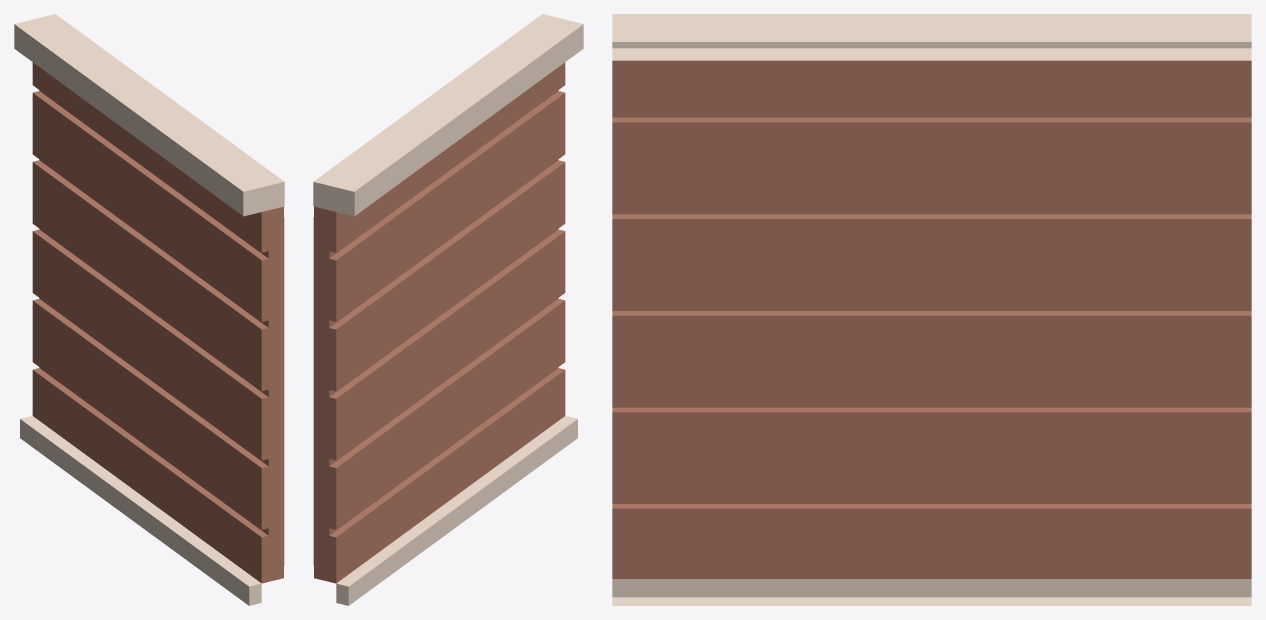
File: O_V_F_Type5_Blank.fbx
3 views of the same model, side by side, from view 1: azimuth 30°, elevation 25°; view 2: azimuth 150°, elevation 25°; view 3: azimuth 270°, elevation 25° (orthographic). The views are drawn at different scales.
Parts seen in each view (by area): view 1: Box011; view 2: Box011; view 3: Box011.
Part boxes in pixels (left/top/right/bottom): Box011: left=14, top=14, right=284, bottom=605; Box011: left=313, top=14, right=583, bottom=605; Box011: left=612, top=14, right=1251, bottom=605.
Size of the model in its own units: 0.3118 by 3 by 3.
